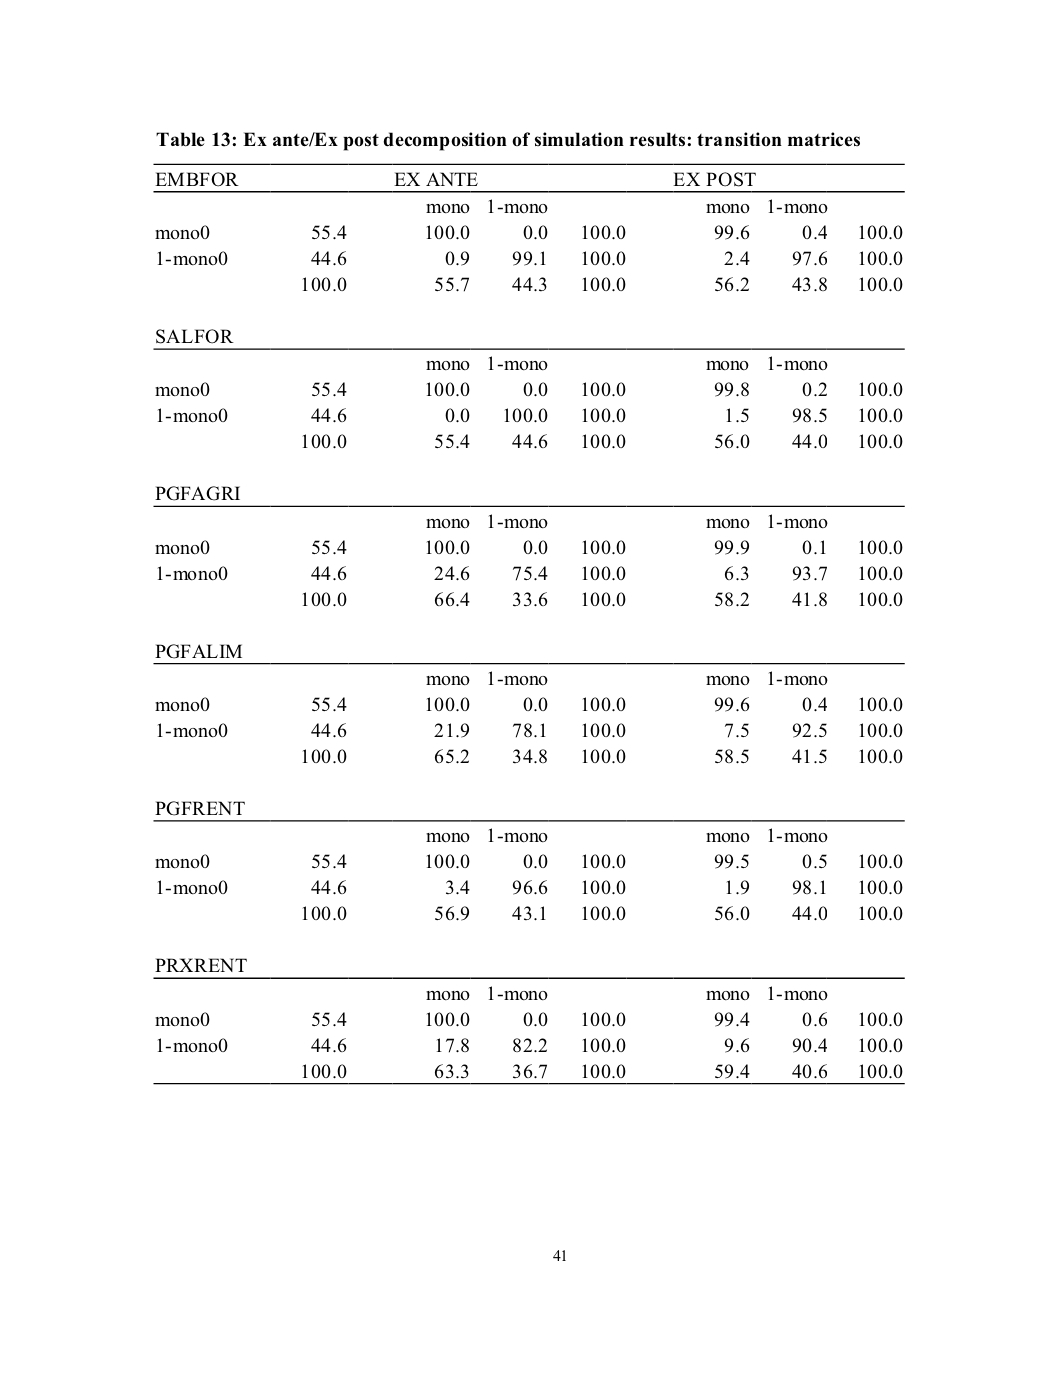Table: (153, 163, 904, 1084)
